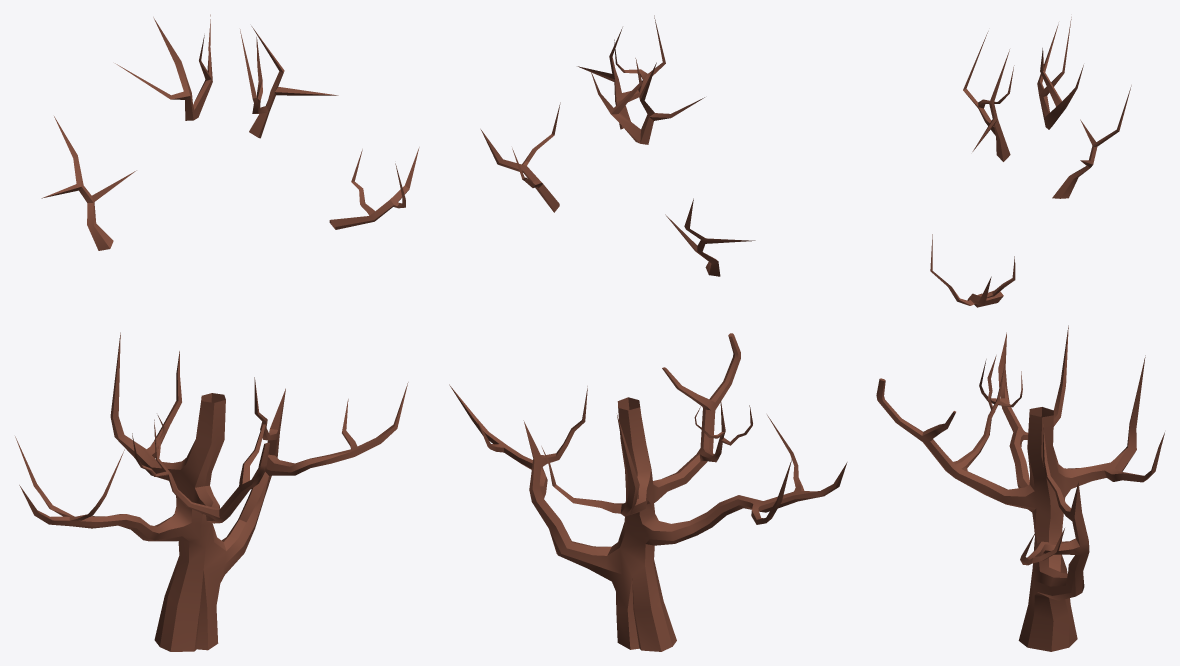
The model's file is FINAL_Tree_Top_1.fbx.
The picture shows the model from 3 angles, left to right: view 1: azimuth 30°, elevation 25°; view 2: azimuth 150°, elevation 25°; view 3: azimuth 270°, elevation 25°; orthographic projection. The views are drawn at different scales.
Parts seen in each view (by area): view 1: Tree_free_03.001; view 2: Tree_free_03.001; view 3: Tree_free_03.001.
Boxes of the visible parts, x1,y1,x2,y2 form: Tree_free_03.001: (15,14,419,651); Tree_free_03.001: (449,15,847,651); Tree_free_03.001: (876,17,1164,651).
Bounding box in the file's own units: 514 × 764 × 322.
